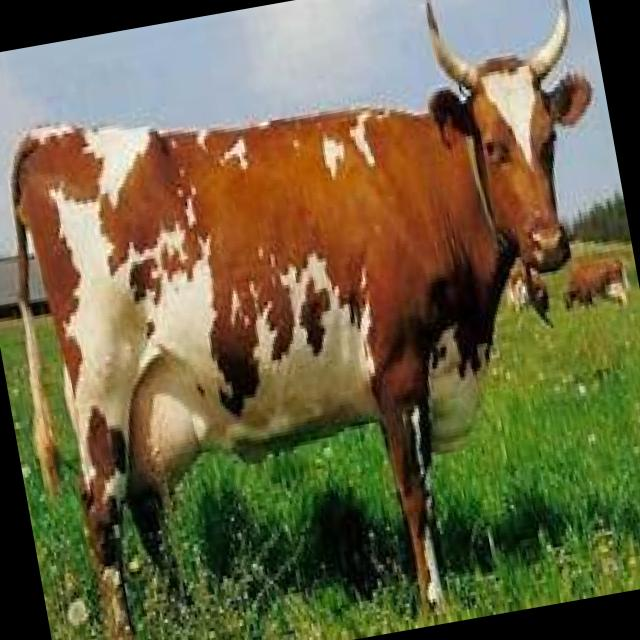cow: (0, 0, 640, 640), (557, 256, 631, 314)
